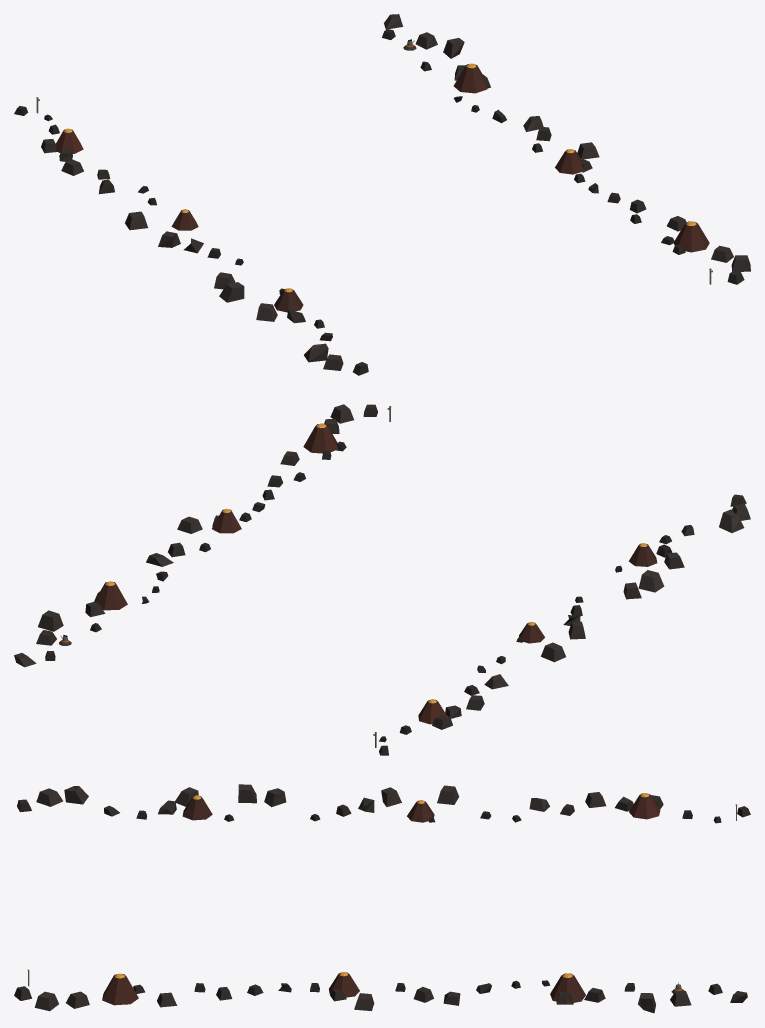
File: lava_channel_detail1.glb
3 views of the same model, one above another, from view 1: azimuth 30°, elevation 25°; view 2: azimuth 150°, elevation 25°; view 3: azimuth 270°, elevation 25° (orthographic). The views are drawn at different scales.
Visible parts, largest first — view 1: lava_channel_detail1; view 2: lava_channel_detail1; view 3: lava_channel_detail1.
Part boxes in pixels (box(x1,y1,x2,y2)): lava_channel_detail1: box(14, 14, 750, 375); lava_channel_detail1: box(14, 404, 750, 755); lava_channel_detail1: box(14, 784, 750, 1013).
Bounding box in the file's own units: 40.3 × 2.04 × 57.27.
